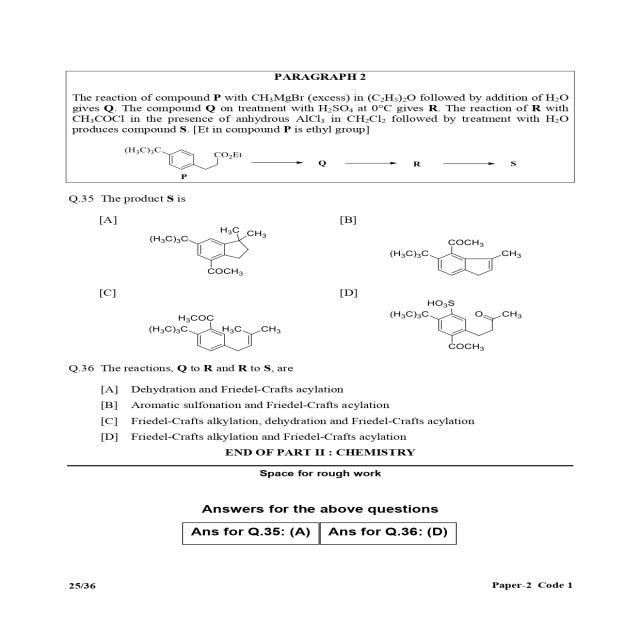Answer_Block: (38, 356, 588, 446)
Description: (38, 464, 588, 556)
Instruction: (38, 53, 588, 186)
Question_Answer_Block: (38, 188, 588, 444)
Question_Block: (38, 188, 588, 360)
Question_Paper_Area: (38, 53, 588, 563)
